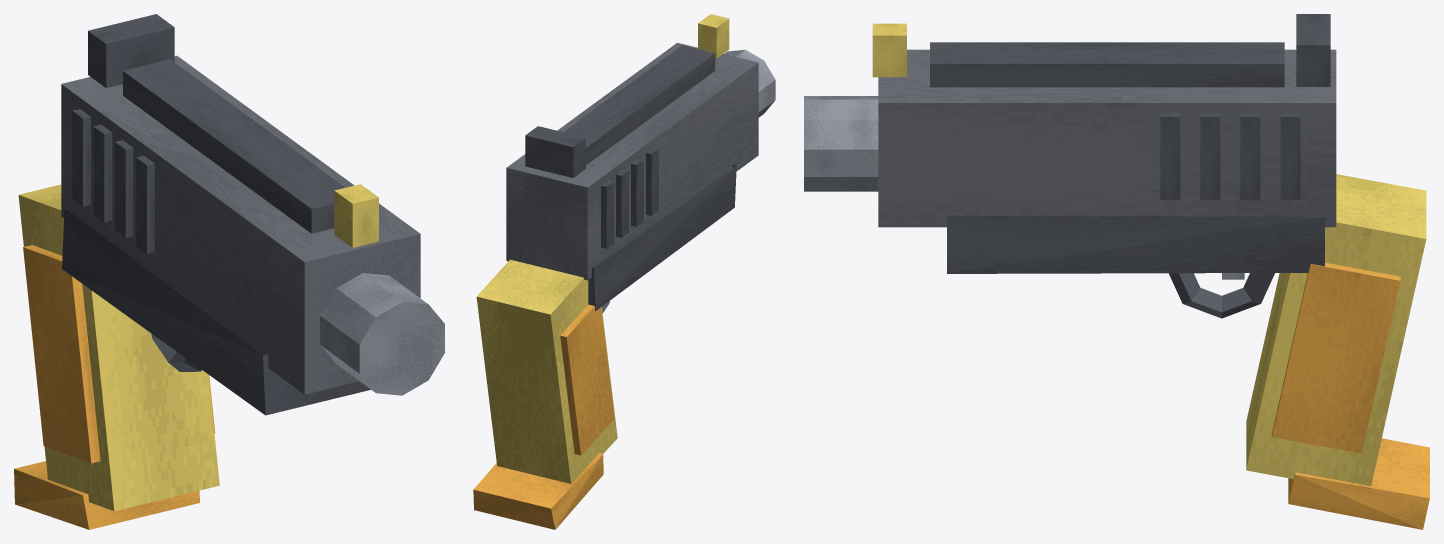
Rendered from weapon_pistol.glb.
3 views of the same model, side by side, from view 1: azimuth 30°, elevation 25°; view 2: azimuth 150°, elevation 25°; view 3: azimuth 270°, elevation 25° (orthographic). The views are drawn at different scales.
Visible parts, largest first — view 1: weapon_pistol; view 2: weapon_pistol; view 3: weapon_pistol.
Boxes of the visible parts, left/top/right/bottom form: weapon_pistol: left=14, top=14, right=444, bottom=529; weapon_pistol: left=473, top=14, right=775, bottom=529; weapon_pistol: left=804, top=14, right=1429, bottom=529.
Bounding box in the file's own units: 0.25 × 0.9132 × 1.09.
1 material, 1 textured.
